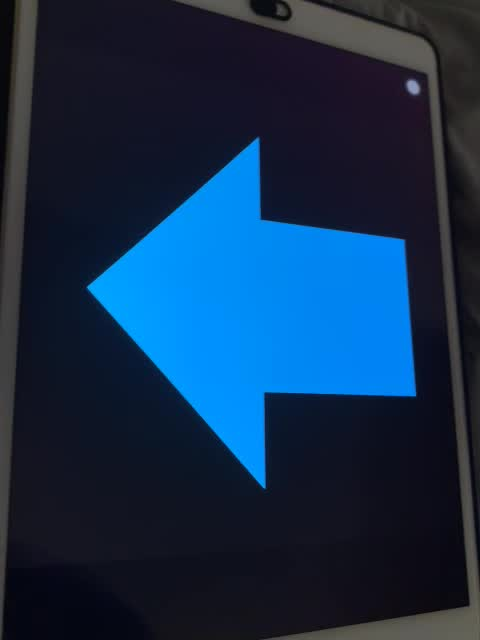left: (81, 126, 423, 498)
